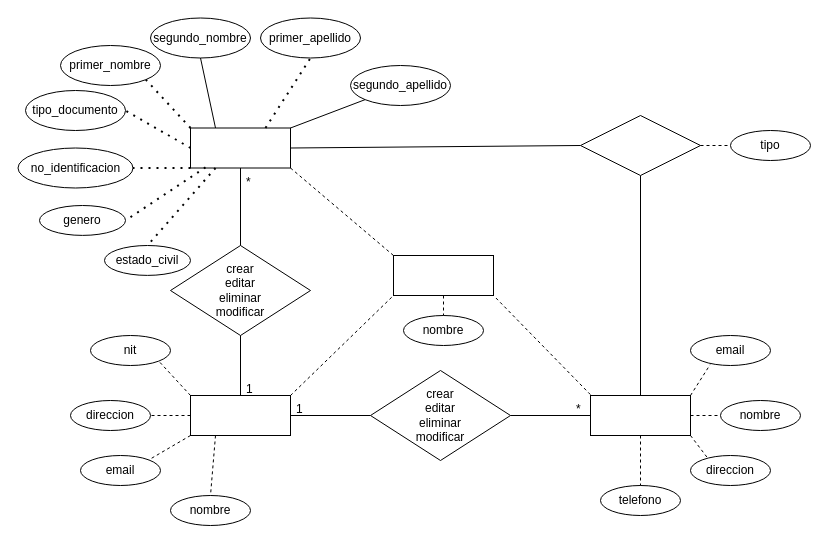
The diagram is 828 pixels wide and 543 high, and some of its shapes have lost their labels. The shapes that lost their labels are listed below. From the top down, each one's box as (x1, y1, x2, y2) in pixels, then its label:
(190, 127, 290, 168): Empleado
(580, 114, 700, 176): relacion
(392, 254, 494, 296): Ciudades
(190, 394, 290, 436): Empresa
(590, 394, 690, 436): Referencia
